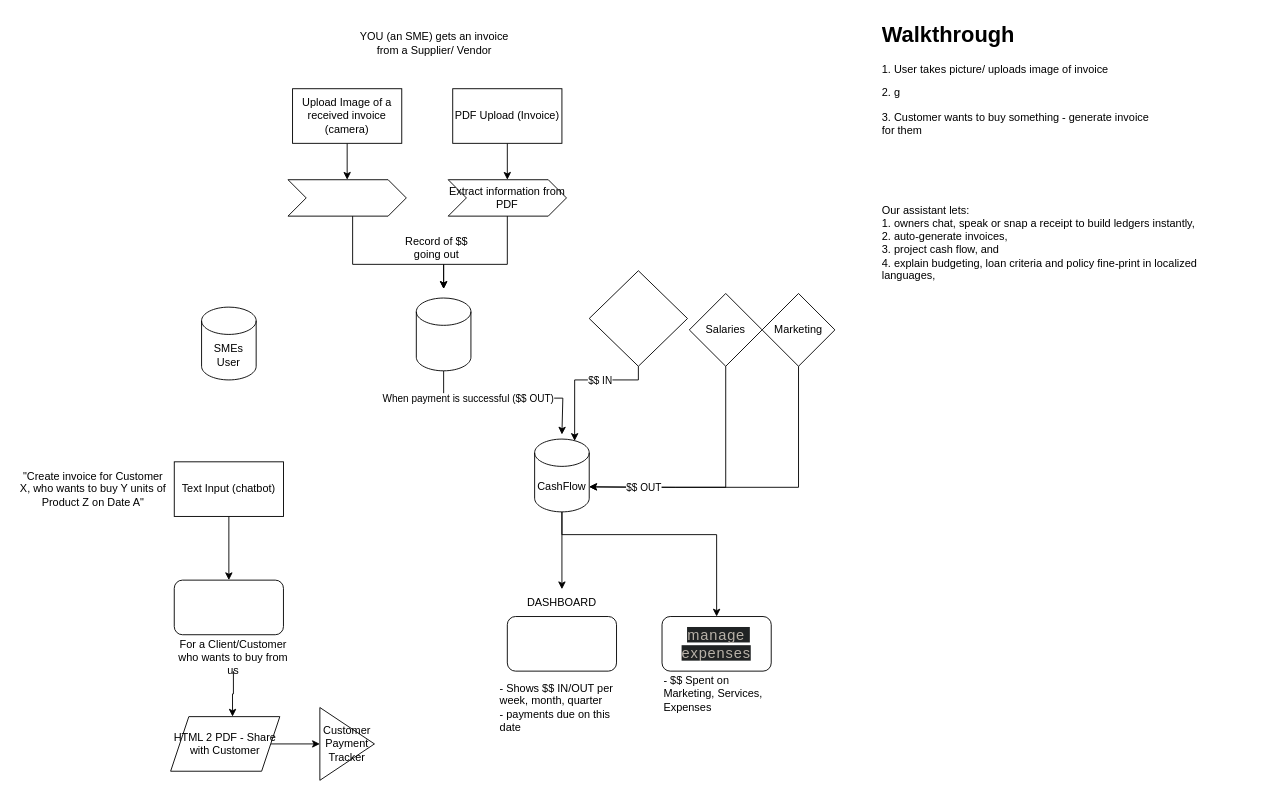
Image size: 1269x796. Some labels were removed from this diagram. Each missing label, with the centre of its shape:
"Extract data from Image" goes at point (346, 197).
"generate invoices" goes at point (228, 607).
"Invoices" goes at point (443, 334).
"SALES Revenue" goes at point (638, 318).
"track cash flow" goes at point (561, 643).
